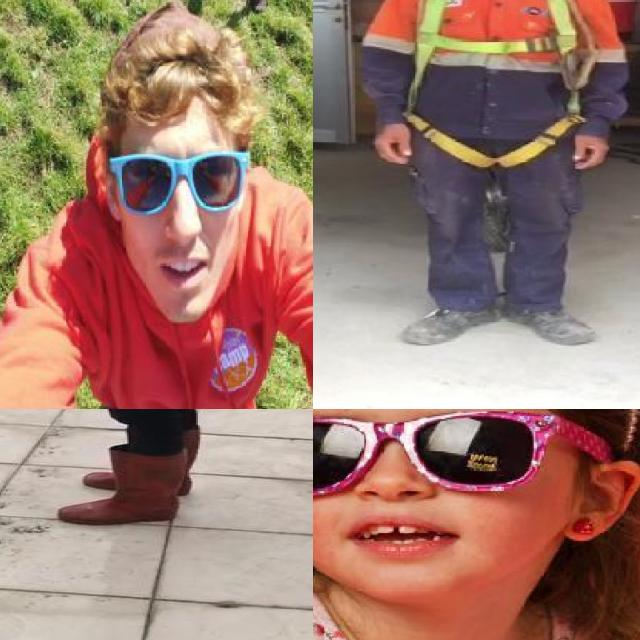No_Ear-Protection: (564, 443, 640, 556)
boots: (58, 450, 186, 528), (84, 430, 198, 500)
face_nomask: (313, 409, 542, 581), (123, 144, 240, 290)
glasses: (313, 409, 610, 488), (72, 143, 250, 235)
hand_noglove: (366, 117, 417, 170), (566, 123, 614, 174)
head_nohelmet: (97, 23, 255, 135)
person: (0, 12, 313, 409), (347, 0, 640, 358), (313, 409, 640, 640), (44, 409, 238, 532)
shoes: (505, 292, 606, 348), (401, 299, 502, 346)
